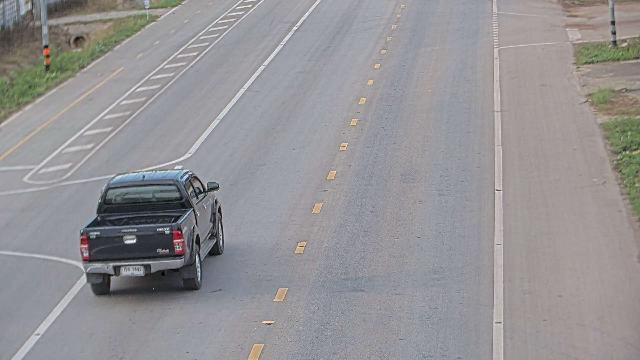pickup-truck: (78, 167, 225, 295)
